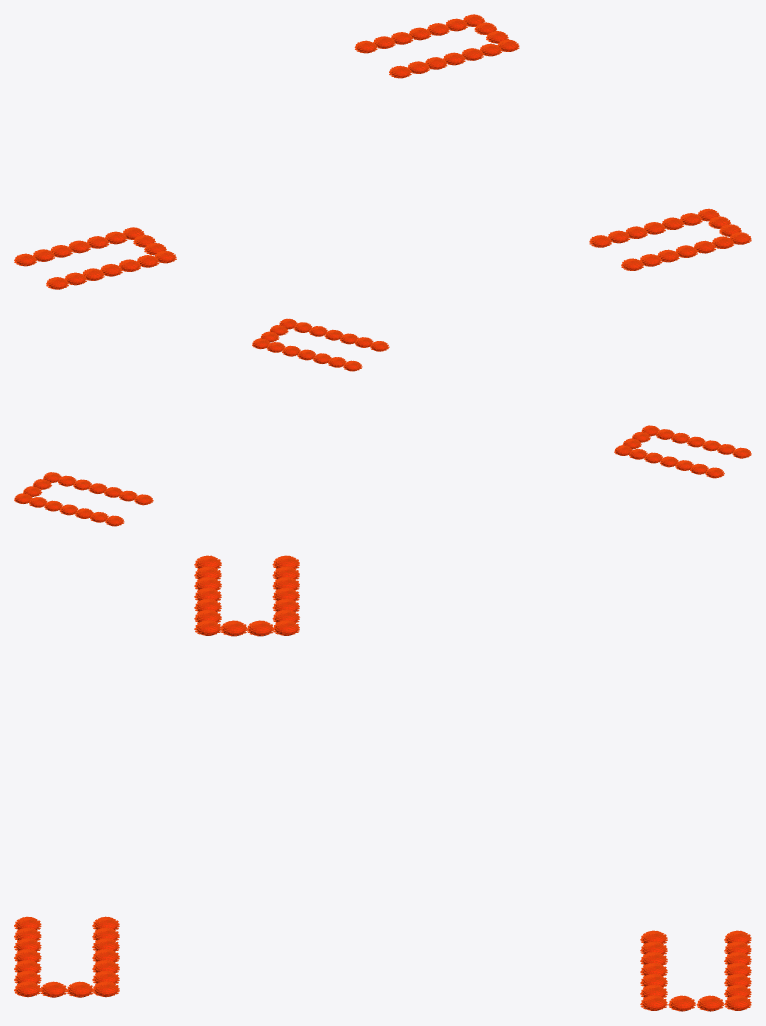
File: florTumba.obj
3 renders of one model, top to bottom at view 1: azimuth 30°, elevation 25°; view 2: azimuth 150°, elevation 25°; view 3: azimuth 270°, elevation 25°, orthographic. The views are drawn at different scales.
Size of the model in its own units: 1.75 by 0.1496 by 1.4.
